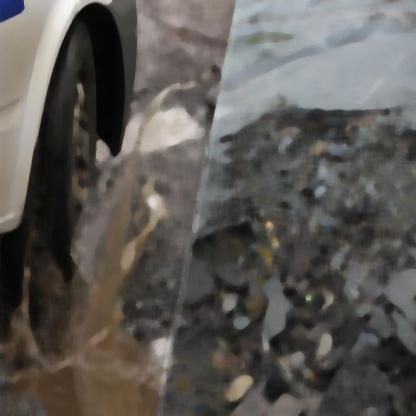Potholes: (233, 119, 416, 415), (24, 339, 164, 415), (132, 74, 209, 151)
